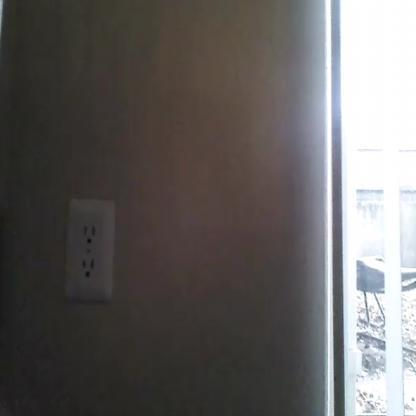OUTLET: (66, 199, 112, 300)
